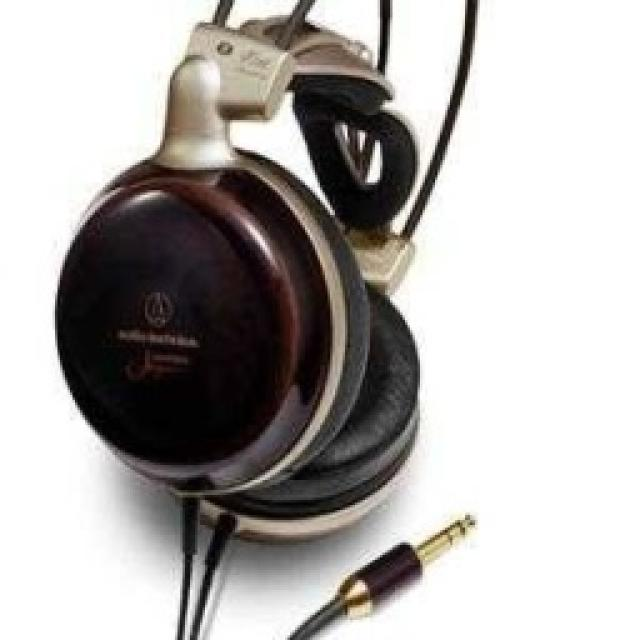kulaklik: (50, 0, 494, 640)
